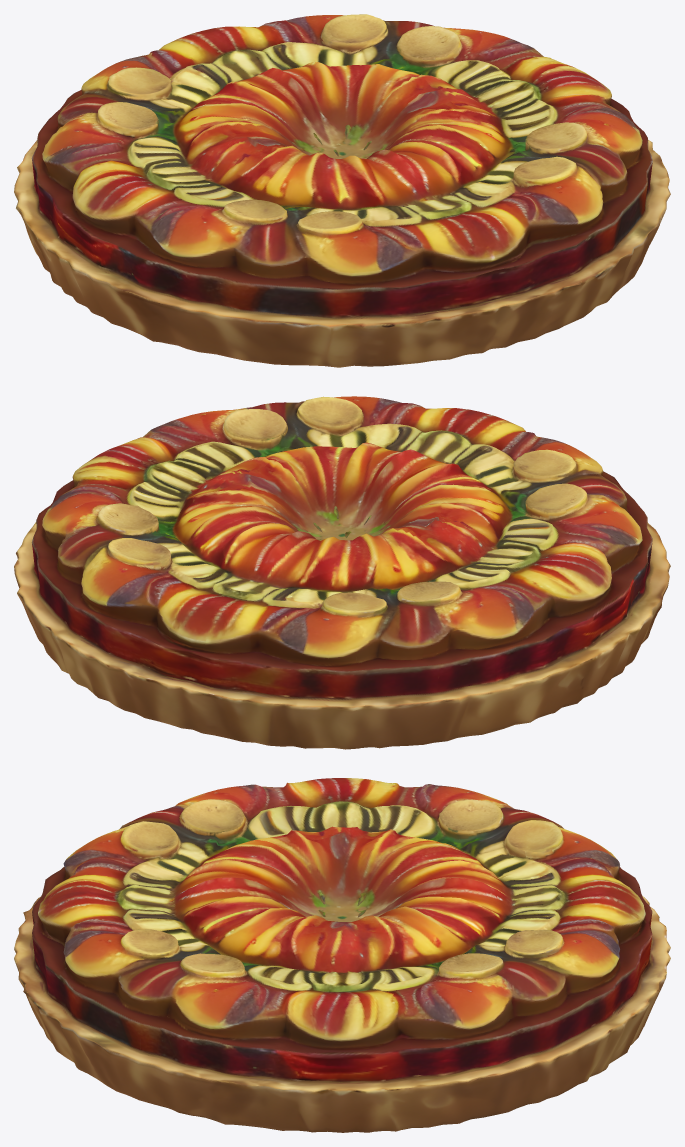
Rendered from Ratatouille.glb.
The picture shows the model from 3 angles, top to bottom: view 1: azimuth 30°, elevation 25°; view 2: azimuth 150°, elevation 25°; view 3: azimuth 270°, elevation 25°; orthographic projection.
Parts seen in each view (by area): view 1: model; view 2: model; view 3: model.
Part boxes in pixels (bbox=[...]): model: bbox=[14, 14, 670, 367]; model: bbox=[14, 396, 670, 749]; model: bbox=[14, 778, 670, 1132].
Size of the model in its own units: 1.89 by 0.4244 by 1.88.
Materials: 1 (1 with a texture image).
